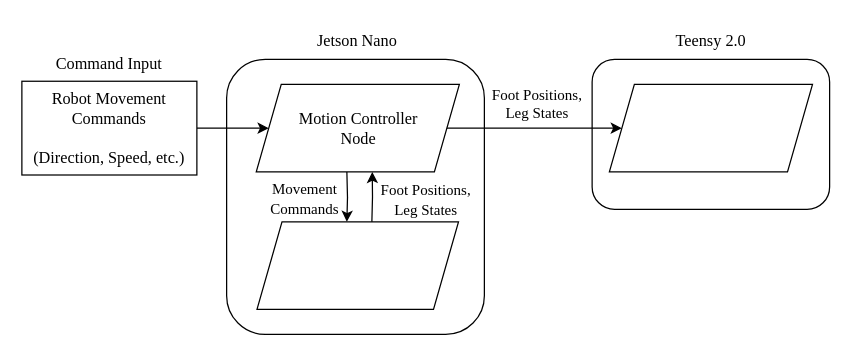
This 853x356 diagram has some shape labels left out. Each missing label, with the centre of its shape:
"Gait State Machine Node" belongs at (x=357, y=265).
"Servo Controller Node" belongs at (x=710, y=127).
